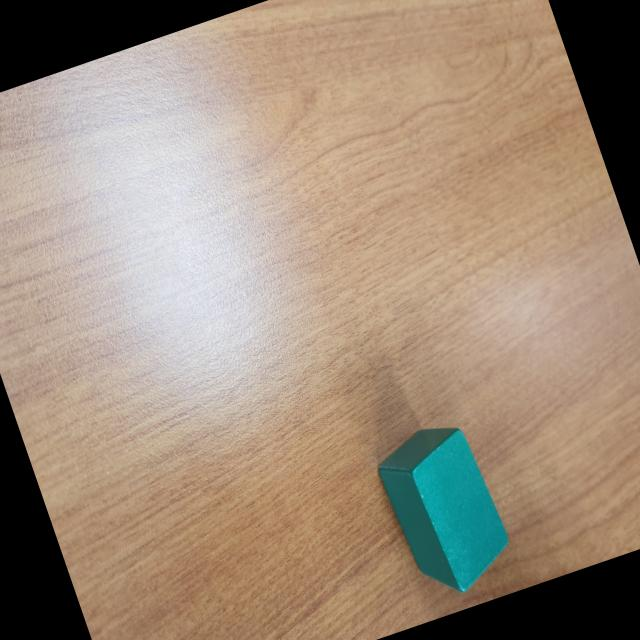green: (366, 411, 522, 608)
